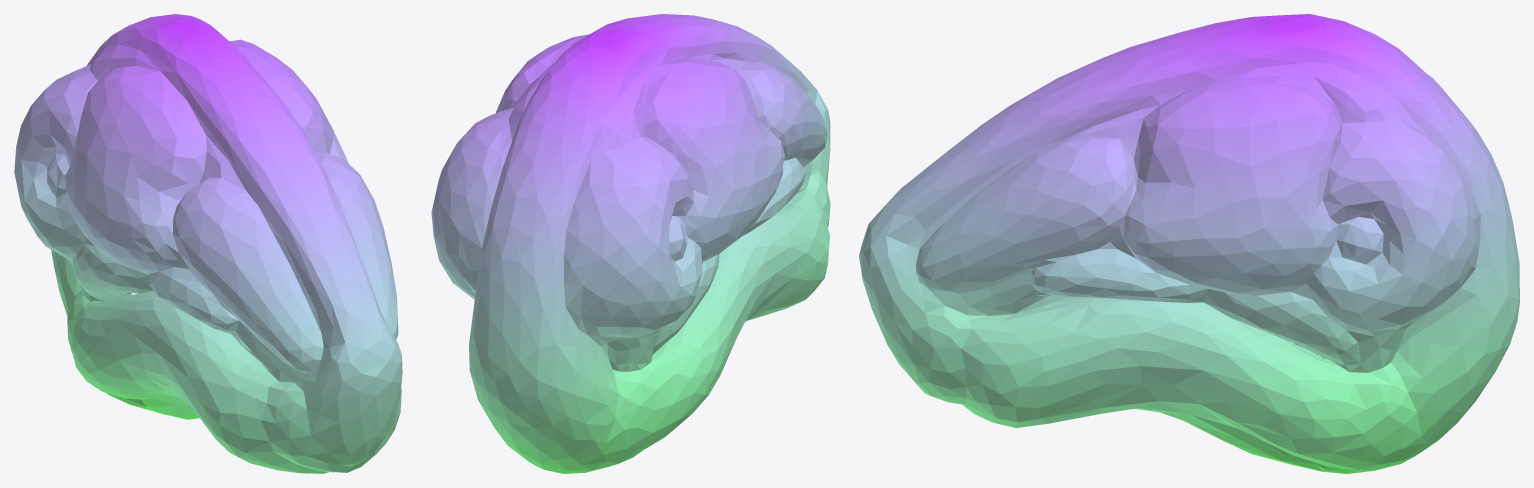
File: 72_cyb_laser_gradient_fish_scales_2996_2026_10_03_f69bf2.glb
3 views of the same model, side by side, from view 1: azimuth 30°, elevation 25°; view 2: azimuth 150°, elevation 25°; view 3: azimuth 270°, elevation 25° (orthographic). The views are drawn at different scales.
Parts seen in each view (by area): view 1: geometry_0; view 2: geometry_0; view 3: geometry_0.
Part boxes in pixels (box(x1,y1,x2,y2)): geometry_0: box(14, 14, 402, 473); geometry_0: box(431, 14, 830, 473); geometry_0: box(859, 14, 1519, 473).
Size of the model in its own units: 0.4741 by 0.7408 by 1.
